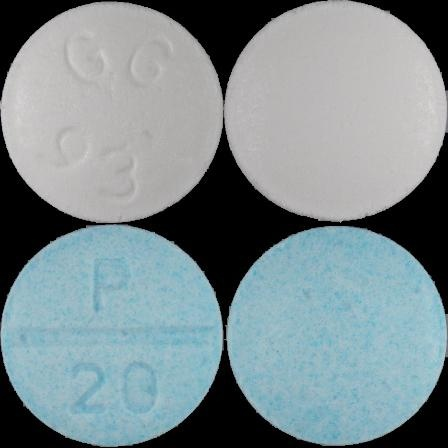10544-283: (0, 0, 224, 224)
